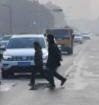person: (44, 34, 69, 91), (28, 41, 52, 89)
